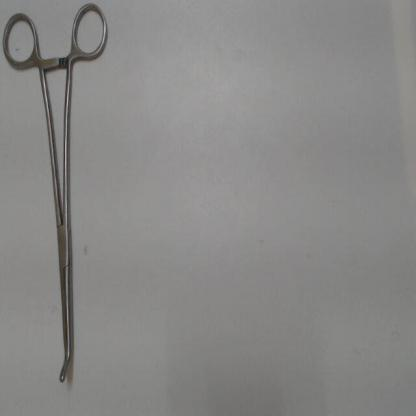Lahey Forceps: (1, 1, 113, 387)
